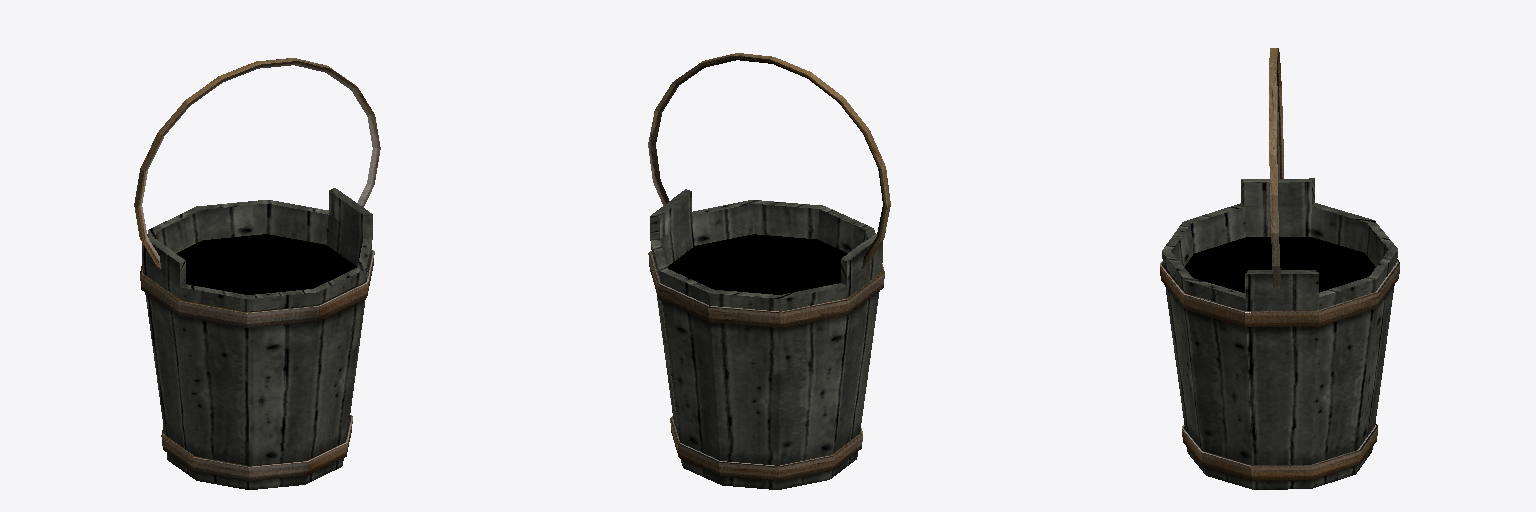
The picture shows the model from 3 angles: view 1: azimuth 30°, elevation 25°; view 2: azimuth 150°, elevation 25°; view 3: azimuth 270°, elevation 25°; orthographic projection.
Parts seen in each view (by area): view 1: polySurface3 group8 polySurface1, group8 polySurface1 polySurface2; view 2: polySurface3 group8 polySurface1, group8 polySurface1 polySurface2; view 3: polySurface3 group8 polySurface1, group8 polySurface1 polySurface2.
Boxes of the visible parts, <box> form: polySurface3 group8 polySurface1: <box>134,58,380,489</box>; group8 polySurface1 polySurface2: <box>177,234,356,294</box>; polySurface3 group8 polySurface1: <box>648,53,890,489</box>; group8 polySurface1 polySurface2: <box>668,234,847,294</box>; polySurface3 group8 polySurface1: <box>1160,48,1399,489</box>; group8 polySurface1 polySurface2: <box>1184,237,1375,292</box>.
Size of the model in its own units: 0.4481 by 0.6959 by 0.3883.
Materials: 2 (1 with a texture image).